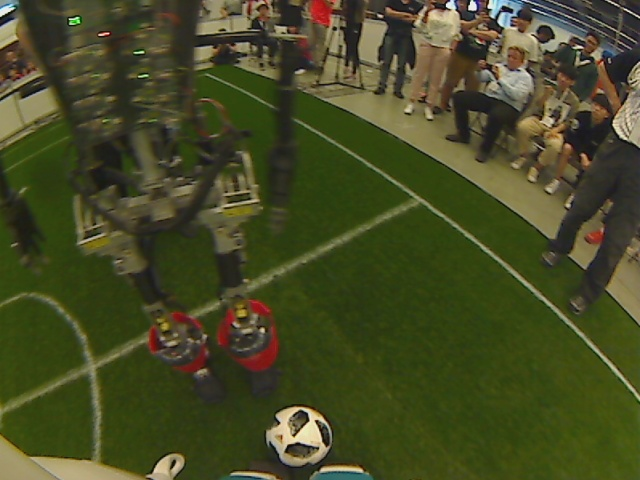ball: (262, 403, 333, 469)
